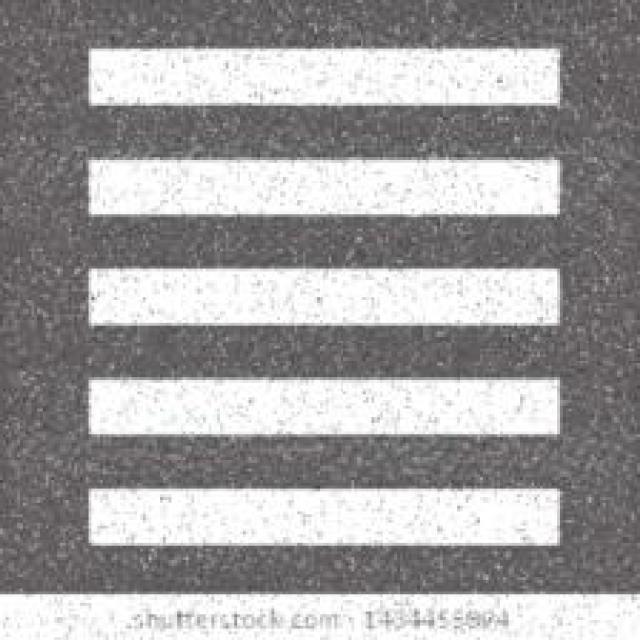crosswalk: (83, 41, 572, 547)
